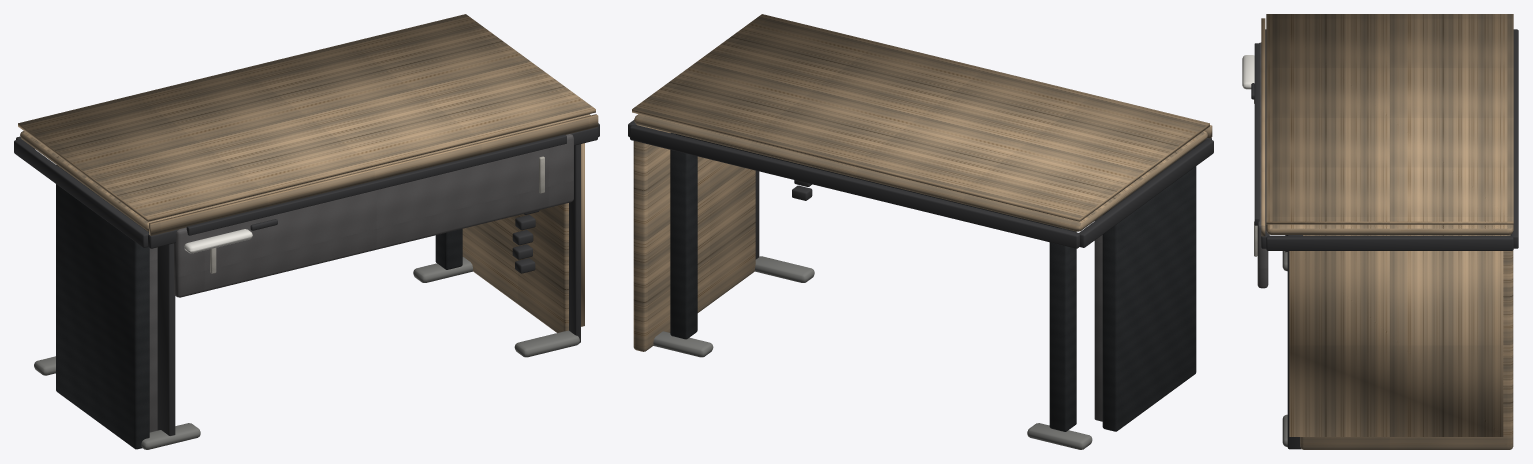
Rendered from p2s_fursys_setina_zdq012j.glb.
3 renders of one model, left to right at view 1: azimuth 30°, elevation 25°; view 2: azimuth 150°, elevation 25°; view 3: azimuth 270°, elevation 25°, orthographic. The views are drawn at different scales.
Visible parts, largest first — view 1: ZDQ012J_LaminateVeneer_top_visible_surface, ZDQ012J_DeskMetal_warm_grey_panel, ZDQ012J_DeskMetal_graphite_frame, ZDQ012J_DeskMetal_black_channel, ZDQ012J_DeskWood_light_laminate, ZDQ012J_LaminateVeneer_front_edge_band, ZDQ012J_DeskRubber_foot_pad, ZDQ012J_DeskPlastic_light_sensor, ZDQ012J_LaminateVeneer_right_return_panel; view 2: ZDQ012J_LaminateVeneer_top_visible_surface, ZDQ012J_DeskMetal_graphite_frame, ZDQ012J_DeskWood_light_laminate, ZDQ012J_DeskMetal_black_channel, ZDQ012J_DeskRubber_foot_pad, ZDQ012J_DeskMetal_warm_grey_panel; view 3: ZDQ012J_LaminateVeneer_top_visible_surface, ZDQ012J_LaminateVeneer_right_return_panel, ZDQ012J_DeskWood_light_laminate, ZDQ012J_DeskMetal_black_channel, ZDQ012J_DeskMetal_warm_grey_panel, ZDQ012J_LaminateVeneer_front_edge_band, ZDQ012J_DeskPlastic_light_sensor, ZDQ012J_DeskRubber_foot_pad.
Boxes of the visible parts, bbox=[...] form: ZDQ012J_LaminateVeneer_top_visible_surface: bbox=[18, 14, 595, 221]; ZDQ012J_DeskMetal_warm_grey_panel: bbox=[149, 134, 573, 432]; ZDQ012J_DeskMetal_graphite_frame: bbox=[56, 165, 462, 449]; ZDQ012J_DeskMetal_black_channel: bbox=[14, 123, 599, 435]; ZDQ012J_DeskWood_light_laminate: bbox=[20, 114, 590, 332]; ZDQ012J_LaminateVeneer_front_edge_band: bbox=[149, 114, 598, 235]; ZDQ012J_DeskRubber_foot_pad: bbox=[34, 257, 579, 449]; ZDQ012J_DeskPlastic_light_sensor: bbox=[184, 229, 252, 253]; ZDQ012J_LaminateVeneer_right_return_panel: bbox=[581, 143, 584, 326]; ZDQ012J_LaminateVeneer_top_visible_surface: bbox=[632, 14, 1209, 221]; ZDQ012J_DeskMetal_graphite_frame: bbox=[670, 133, 1196, 431]; ZDQ012J_DeskWood_light_laminate: bbox=[633, 114, 1207, 351]; ZDQ012J_DeskMetal_black_channel: bbox=[628, 120, 1213, 259]; ZDQ012J_DeskRubber_foot_pad: bbox=[653, 256, 1092, 449]; ZDQ012J_DeskMetal_warm_grey_panel: bbox=[1094, 215, 1102, 421]; ZDQ012J_LaminateVeneer_top_visible_surface: bbox=[1266, 14, 1513, 224]; ZDQ012J_LaminateVeneer_right_return_panel: bbox=[1289, 251, 1503, 436]; ZDQ012J_DeskWood_light_laminate: bbox=[1266, 224, 1513, 449]; ZDQ012J_DeskMetal_black_channel: bbox=[1251, 29, 1518, 449]; ZDQ012J_DeskMetal_warm_grey_panel: bbox=[1257, 42, 1268, 288]; ZDQ012J_LaminateVeneer_front_edge_band: bbox=[1261, 18, 1265, 236]; ZDQ012J_DeskPlastic_light_sensor: bbox=[1242, 55, 1254, 89]; ZDQ012J_DeskRubber_foot_pad: bbox=[1282, 251, 1287, 446].
Bounding box in the file's own units: 1.2 × 0.604 × 0.6595.
7 materials, 4 textured.
